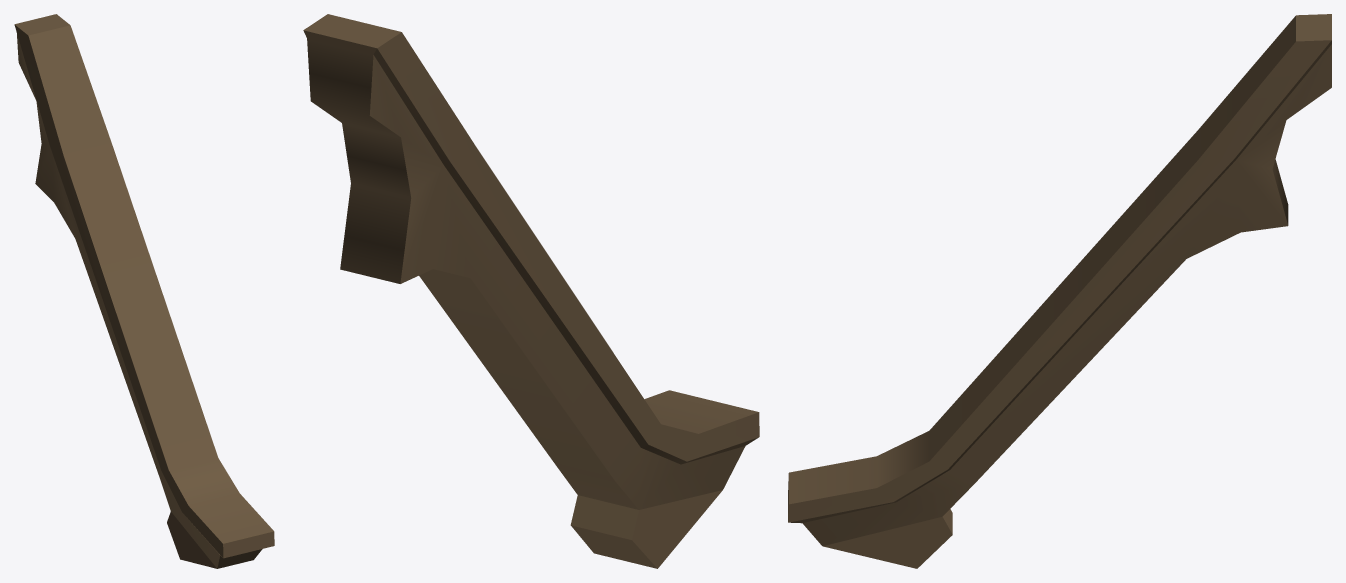
The model's file is elven_SM_Bld_Roof_End_Straight_Beam_01.gltf.
The picture shows the model from 3 angles, left to right: view 1: azimuth 30°, elevation 25°; view 2: azimuth 150°, elevation 25°; view 3: azimuth 270°, elevation 25°; orthographic projection. The views are drawn at different scales.
Visible parts, largest first — view 1: SM_Bld_Roof_End_Straight_Beam_01; view 2: SM_Bld_Roof_End_Straight_Beam_01; view 3: SM_Bld_Roof_End_Straight_Beam_01.
Boxes of the visible parts, <box> form: SM_Bld_Roof_End_Straight_Beam_01: <box>14,14,274,568</box>; SM_Bld_Roof_End_Straight_Beam_01: <box>303,14,759,568</box>; SM_Bld_Roof_End_Straight_Beam_01: <box>788,14,1331,568</box>.
Size of the model in its own units: 0.42 by 3.26 by 3.03.
1 material, 1 textured.
